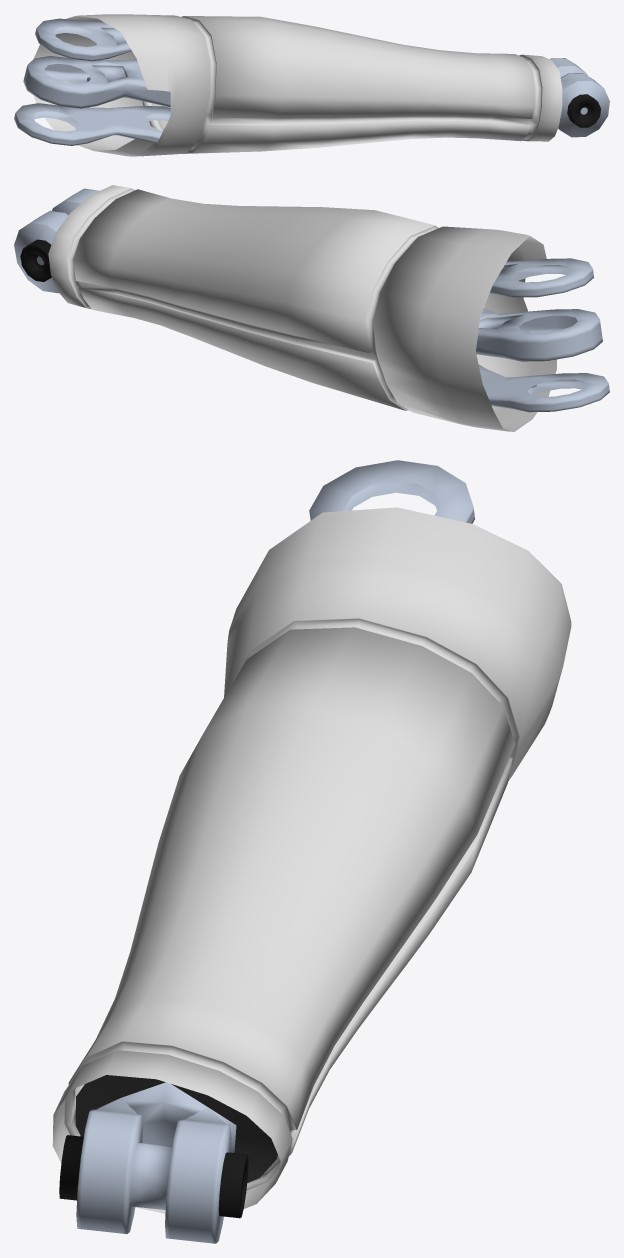
File: leftForearm.dae
3 renders of one model, top to bottom at view 1: azimuth 30°, elevation 25°; view 2: azimuth 150°, elevation 25°; view 3: azimuth 270°, elevation 25°, orthographic. The views are drawn at different scales.
Parts seen in each view (by area): view 1: main_001, Circle_163, Circle_165; view 2: main_001, Circle_163, Circle_165; view 3: main_001, Circle_165, Circle_163.
Part boxes in pixels (x1,y1,x2,y2): main_001: [33, 14, 562, 156]; Circle_163: [14, 18, 170, 145]; Circle_165: [550, 58, 609, 137]; main_001: [48, 185, 556, 431]; Circle_163: [476, 258, 609, 412]; Circle_165: [14, 188, 99, 293]; main_001: [52, 507, 571, 1213]; Circle_165: [59, 1082, 248, 1243]; Circle_163: [309, 460, 474, 523].
Bounding box in the file's own units: 4.43 × 1.93 × 1.39.
